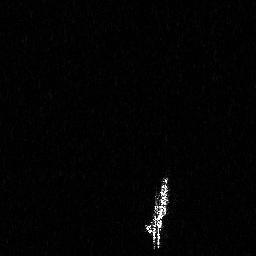ship: (143, 175, 169, 251)
